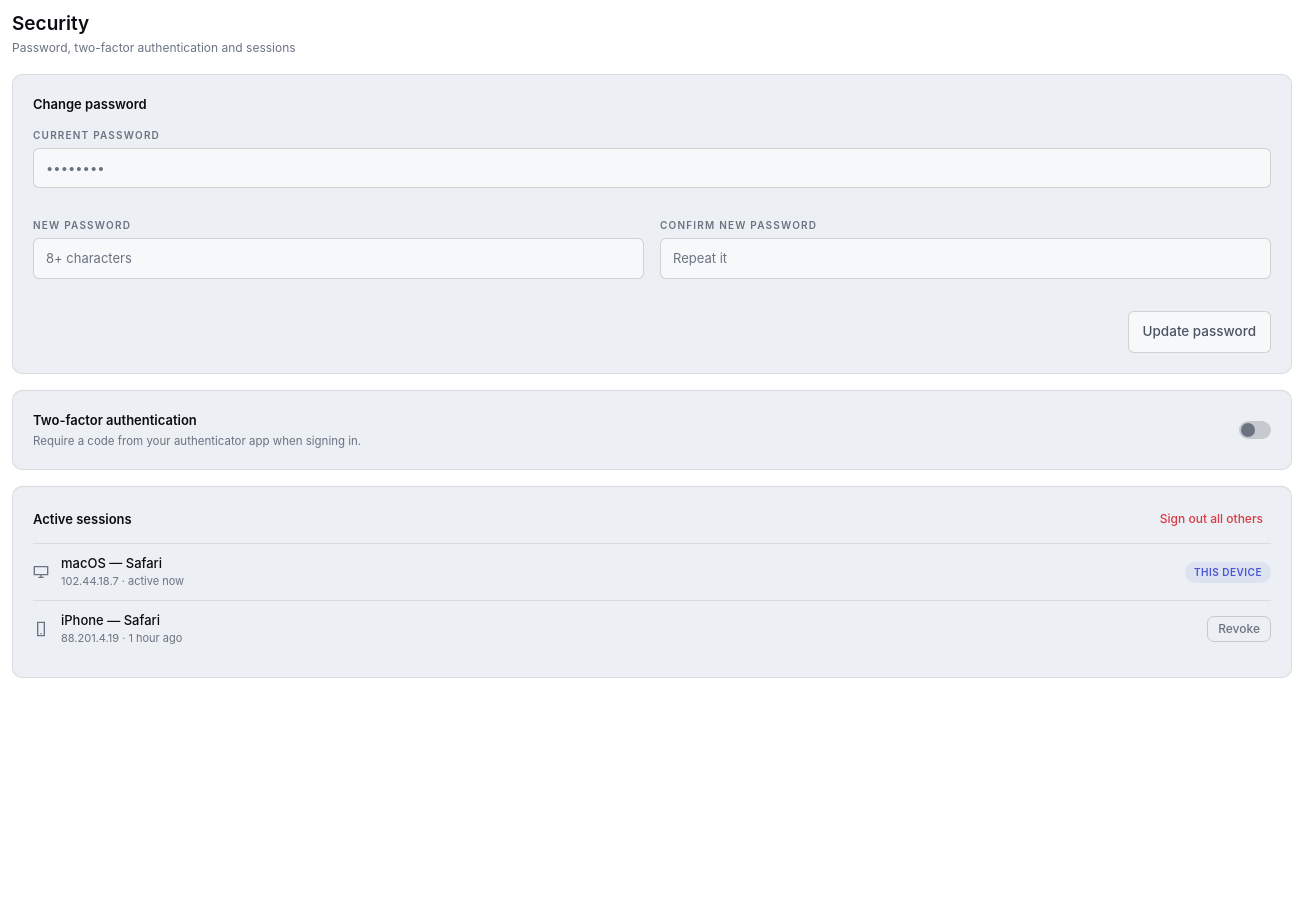
SettingsSecurityPage › revokes one session and refreshes the list
Click the button "Revoke" at (1239, 629), box [1207,616,1271,642]
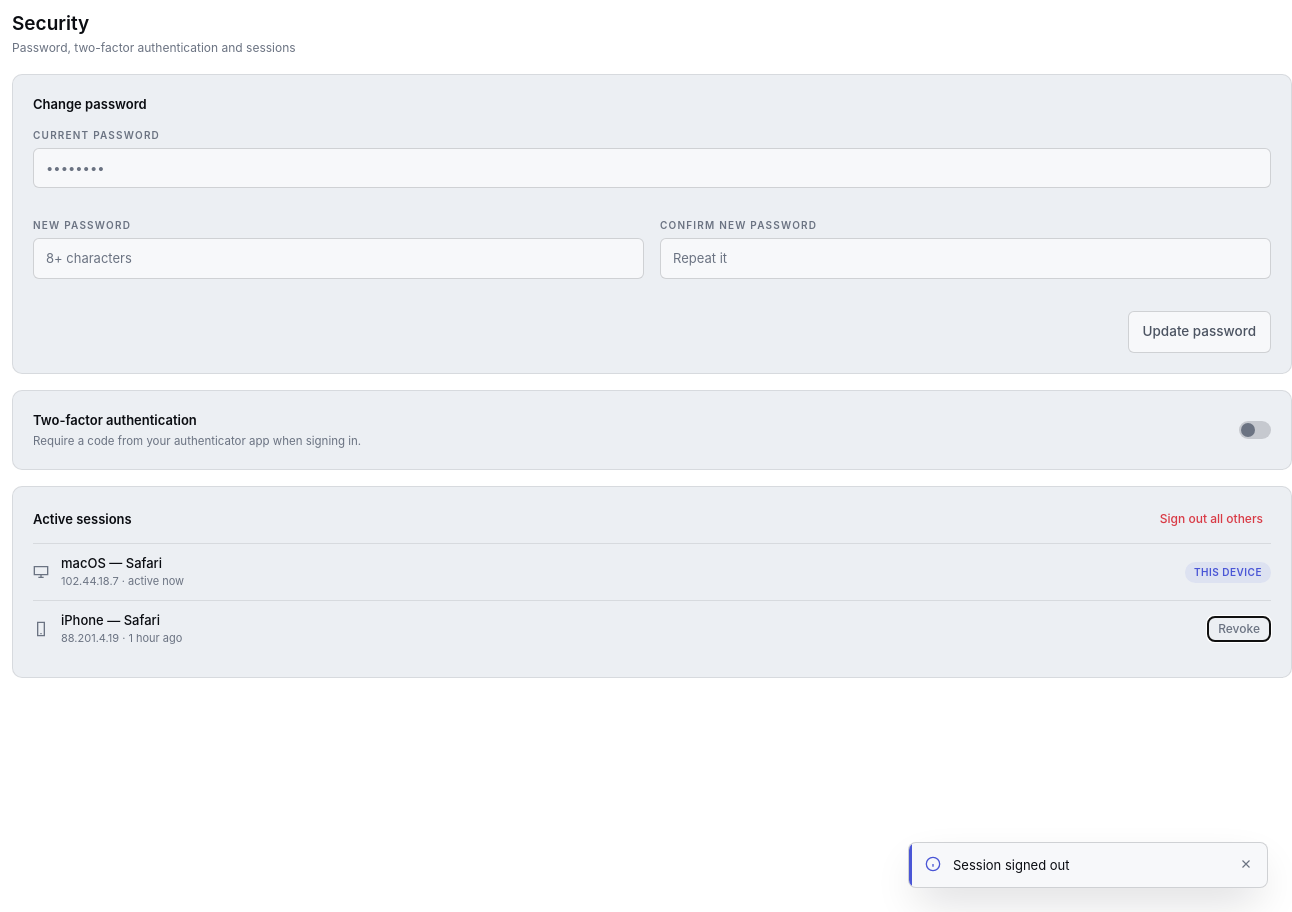
Result: the text "Session signed out" is shown at [953,857,1070,873]
